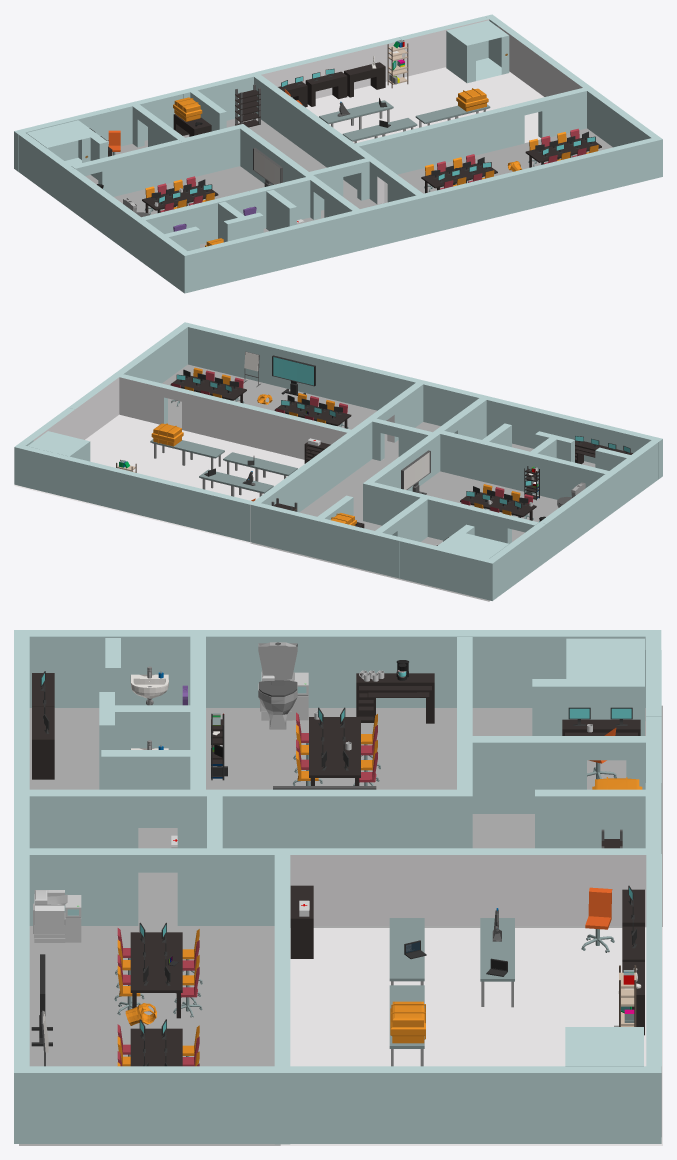
Rendered from thetutoriallevel.fbx.
3 views of the same model, one above another, from view 1: azimuth 30°, elevation 25°; view 2: azimuth 150°, elevation 25°; view 3: azimuth 270°, elevation 25° (orthographic). The views are drawn at different scales.
Parts seen in each view (by area): view 1: polySurface457, pPlane28, polySurface488, pasted__polySurface783, polySurface504, pasted__polySurface782, polySurface501, polySurface435, group5_pasted__polySurface254_pasted__polySurface436, polySurface492, polySurface1155, polySurface1154 (+47 smaller); view 2: polySurface457, pPlane28, polySurface488, polySurface501, polySurface502, polySurface439, polySurface492, polySurface504, polySurface435, polySurface434, polySurface473, polySurface1154 (+45 smaller); view 3: pPlane28, polySurface457, polySurface486, polySurface480, polySurface506, polySurface531, pasted__polySurface782, polySurface491, polySurface1160, polySurface438, polySurface1155, polySurface483 (+42 smaller).
Part boxes in pixels (box(x1,y1,x2,y2)): polySurface457: box(254, 16, 593, 204); pPlane28: box(85, 67, 612, 247); polySurface488: box(358, 170, 524, 250); pasted__polySurface783: box(446, 20, 509, 83); polySurface504: box(179, 124, 246, 179); pasted__polySurface782: box(26, 120, 107, 179); polySurface501: box(141, 191, 252, 244); polySurface435: box(71, 148, 146, 196); group5_pasted__polySurface254_pasted__polySurface436: box(278, 62, 385, 107); polySurface492: box(592, 141, 641, 192); polySurface1155: box(142, 176, 218, 214); polySurface1154: box(525, 128, 601, 167); polySurface457: box(21, 372, 423, 542); pPlane28: box(14, 364, 595, 601); polySurface488: box(319, 356, 485, 425); polySurface501: box(497, 445, 608, 499); polySurface502: box(440, 431, 501, 485); polySurface439: box(251, 501, 309, 555); polySurface492: box(202, 327, 251, 378); polySurface504: box(363, 480, 430, 525); polySurface435: box(463, 505, 538, 543); polySurface434: box(327, 520, 366, 569); polySurface473: box(363, 529, 402, 578); polySurface1154: box(170, 367, 246, 406); pPlane28: box(19, 705, 662, 1145); polySurface457: box(29, 848, 661, 1144); polySurface486: box(139, 1066, 274, 1143); polySurface480: box(198, 789, 378, 848); polySurface506: box(472, 736, 645, 813); polySurface531: box(29, 789, 198, 848); pasted__polySurface782: box(532, 638, 644, 735); polySurface491: box(61, 1066, 139, 1143); polySurface1160: box(114, 922, 202, 1018); polySurface438: box(457, 630, 535, 707); polySurface1155: box(293, 707, 380, 785); polySurface483: box(378, 789, 456, 848).
Size of the model in its own units: 26.69 by 2.65 by 16.53.
Materials: 18 (2 with a texture image).
